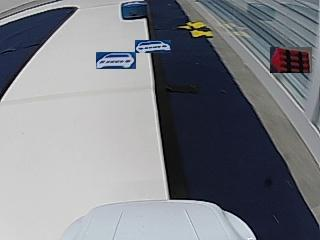prop: (122, 1, 147, 20)
